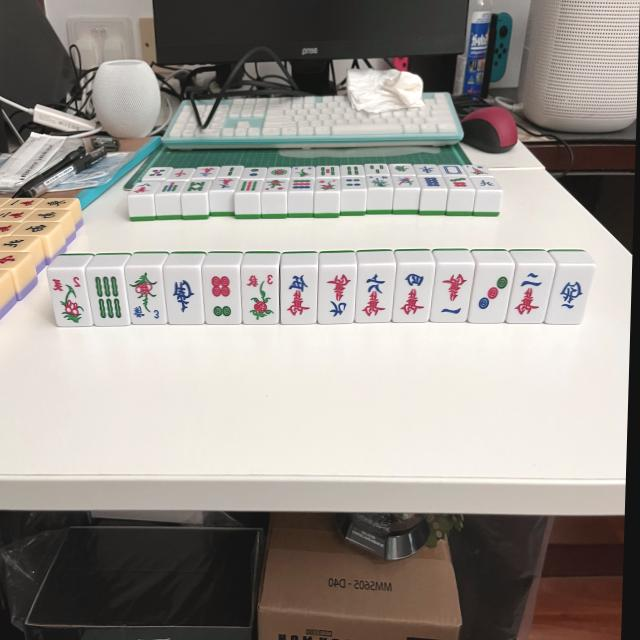1B: (390, 175, 419, 189)
1C: (429, 264, 474, 322)
1D: (264, 168, 290, 180)
1F: (465, 164, 487, 176)
1S: (314, 179, 339, 194)
2B: (219, 166, 239, 178)
2C: (505, 265, 554, 324)
2D: (241, 167, 265, 180)
2F: (290, 165, 316, 180)
2S: (45, 268, 95, 327)
3B: (366, 164, 387, 175)
3D: (467, 264, 513, 323), (193, 168, 221, 180)
3F: (123, 266, 168, 324)
3S: (240, 266, 283, 324)
4B: (340, 178, 365, 192), (341, 164, 364, 178)
4C: (392, 264, 434, 322)
4F: (366, 174, 390, 192)
4S: (262, 179, 287, 195)
5B: (318, 164, 341, 177)
5C: (278, 268, 319, 326)
5D: (145, 166, 166, 180)
6B: (83, 268, 130, 326)
6C: (355, 264, 396, 322)
6D: (199, 266, 242, 324)
7B: (155, 181, 184, 195)
7C: (209, 177, 240, 192)
7D: (449, 176, 471, 190)
8B: (180, 180, 208, 195)
8C: (131, 181, 157, 197)
8D: (419, 176, 449, 190)
9B: (235, 178, 263, 194), (288, 178, 312, 192)
9C: (318, 266, 357, 323)
EW: (416, 162, 438, 178)
GD: (391, 163, 412, 176)
NW: (470, 176, 503, 190)
RD: (166, 167, 192, 181)
SW: (161, 267, 205, 325)
WD: (441, 164, 463, 177)
WW: (543, 267, 594, 326)
